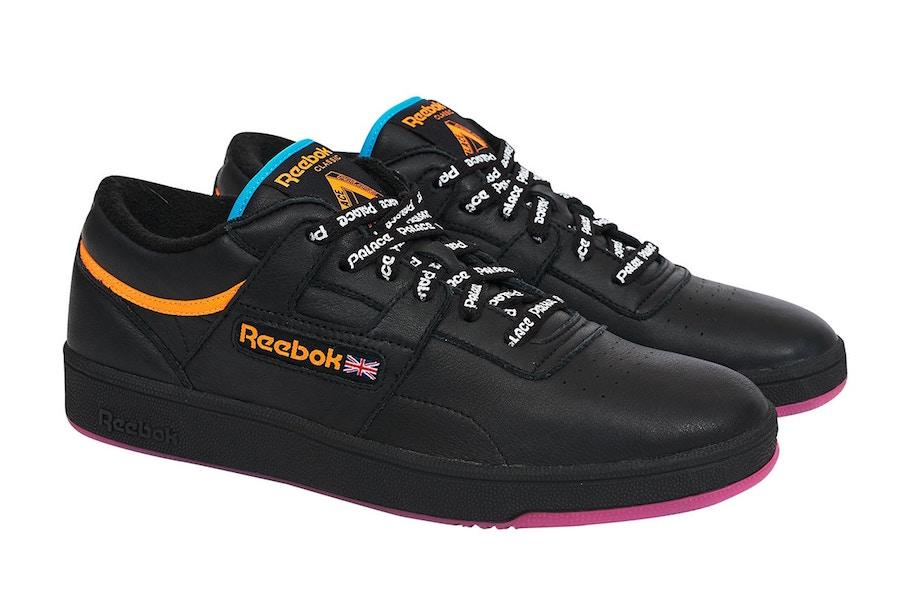sneaker: (62, 142, 780, 532), (401, 89, 863, 355)
